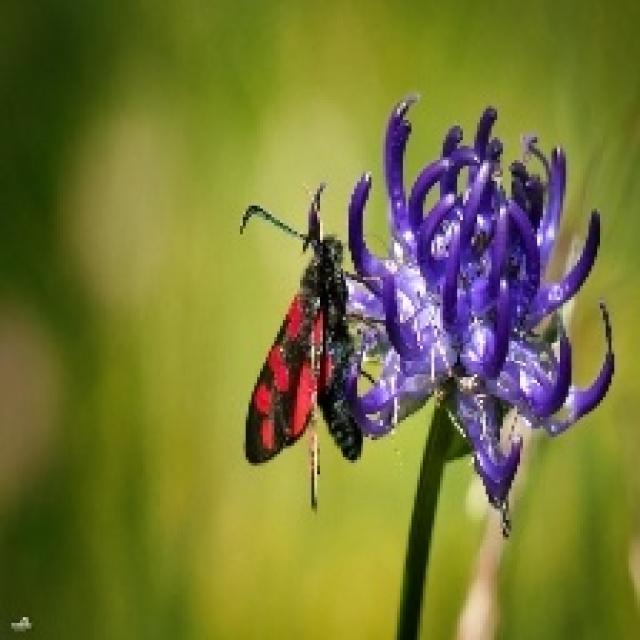butterfly: (237, 177, 386, 512)
